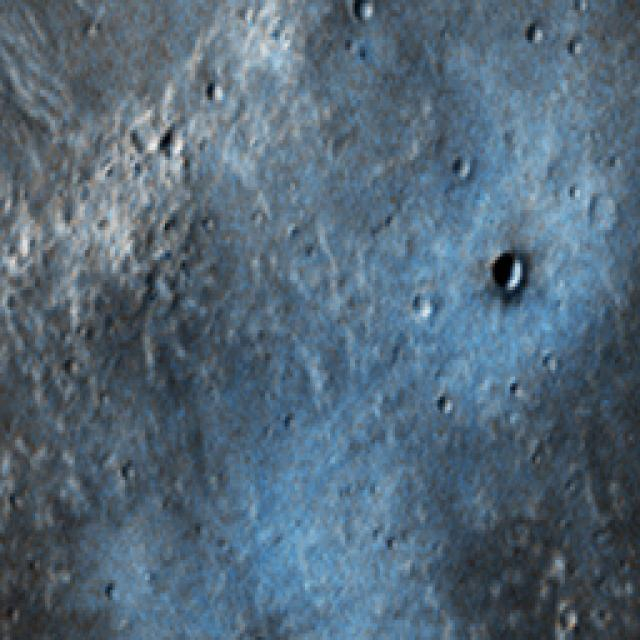Crater: (0, 0, 352, 286), (477, 233, 545, 320), (245, 630, 283, 640)
